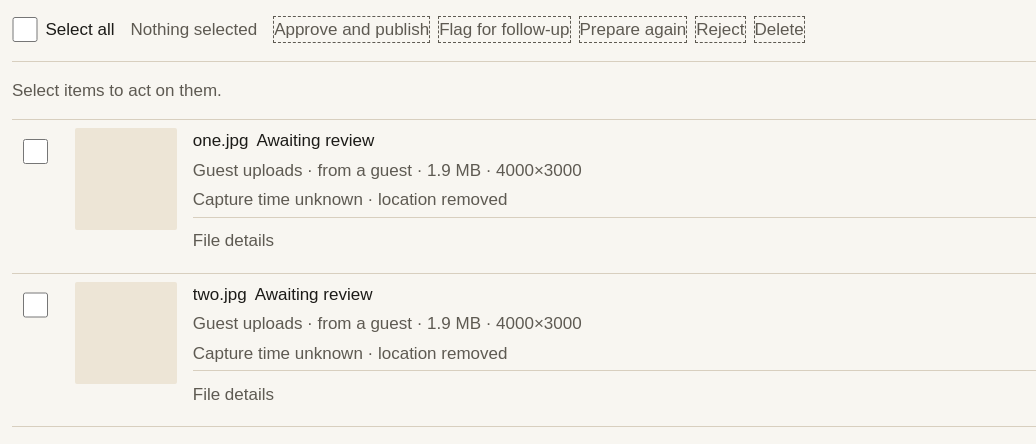
Test: moderation queue › approves the selected items in one click and says how many
This screenshot has width=1036, height=444.
Expected: the number of list items with test id "queue-item" is 2, [12,120,1035,274]; [12,274,1035,427]
Expected: the text "Capture time unknown · location removed" is shown 2 times, [193,190,508,209]; [193,344,508,362]
Click the checkbox labelled "Select all": (25, 29) [12,17,38,42]
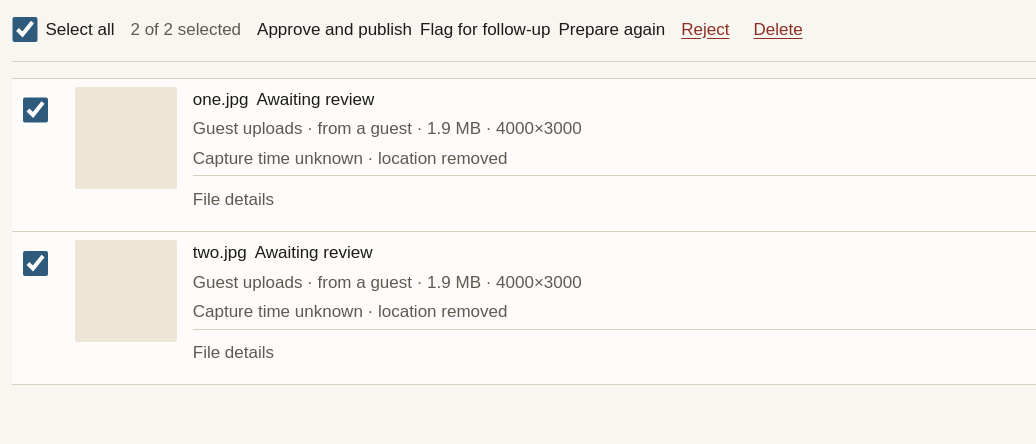
Click the button "Approve and publish": (335, 29) [257,17,412,42]
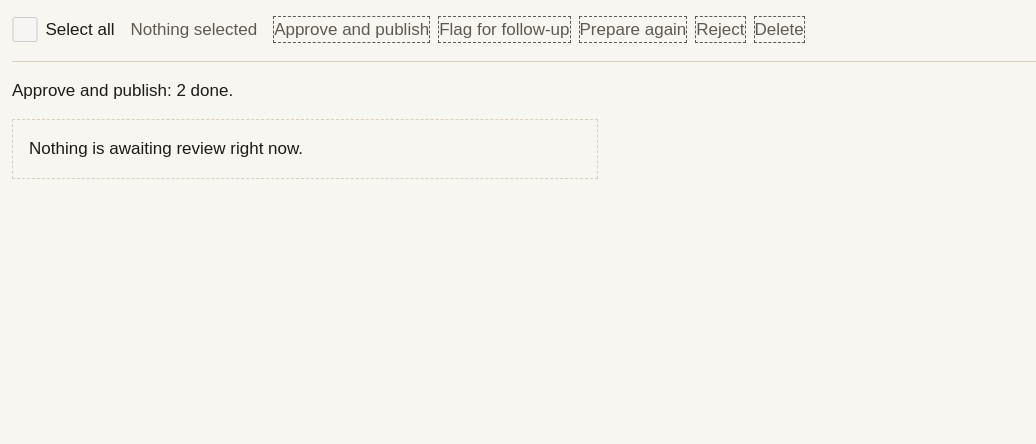
Expected: the message with class "media-note" shows "Approve and publish: 2 done", [12,81,233,100]
Expected: no list items with test id "queue-item" are shown
